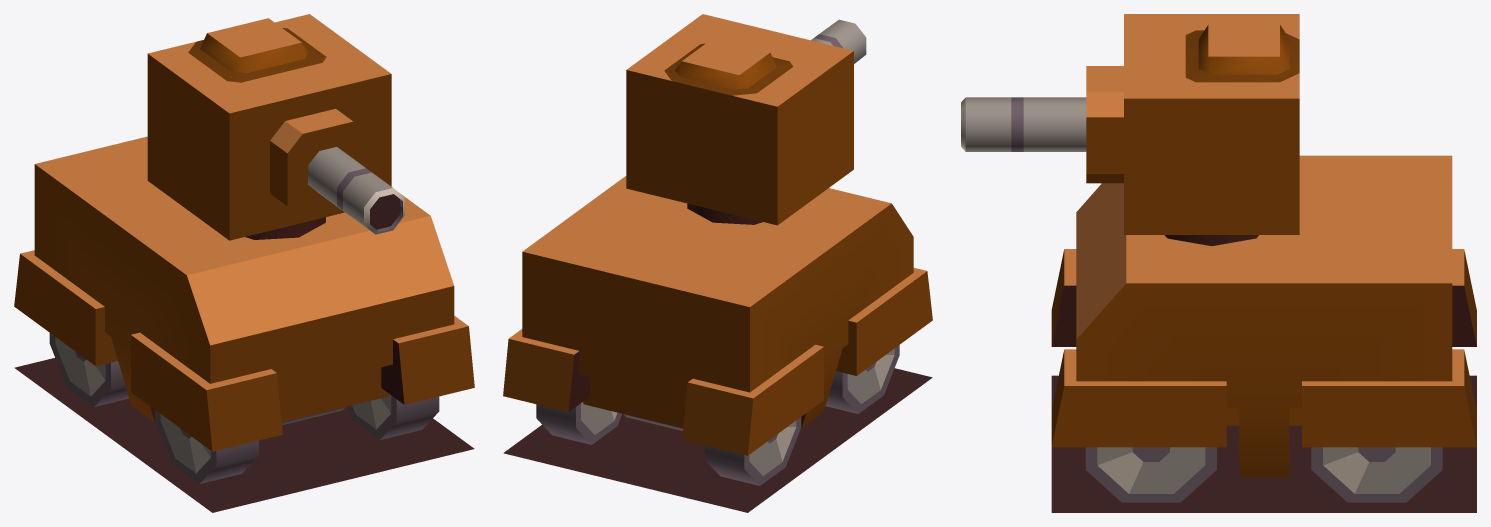
The model's file is ReconMesh.UmberWilds.glb.
The picture shows the model from 3 angles, left to right: view 1: azimuth 30°, elevation 25°; view 2: azimuth 150°, elevation 25°; view 3: azimuth 270°, elevation 25°; orthographic projection. The views are drawn at different scales.
Visible parts, largest first — view 1: ReconMesh.UmberWilds; view 2: ReconMesh.UmberWilds; view 3: ReconMesh.UmberWilds.
Boxes of the visible parts, x1,y1,x2,y2 form: ReconMesh.UmberWilds: (14, 14, 474, 512); ReconMesh.UmberWilds: (503, 14, 932, 512); ReconMesh.UmberWilds: (961, 14, 1476, 512).
Size of the model in its own units: 1.29 by 1.79 by 2.06.
Materials: 1 (1 with a texture image).
